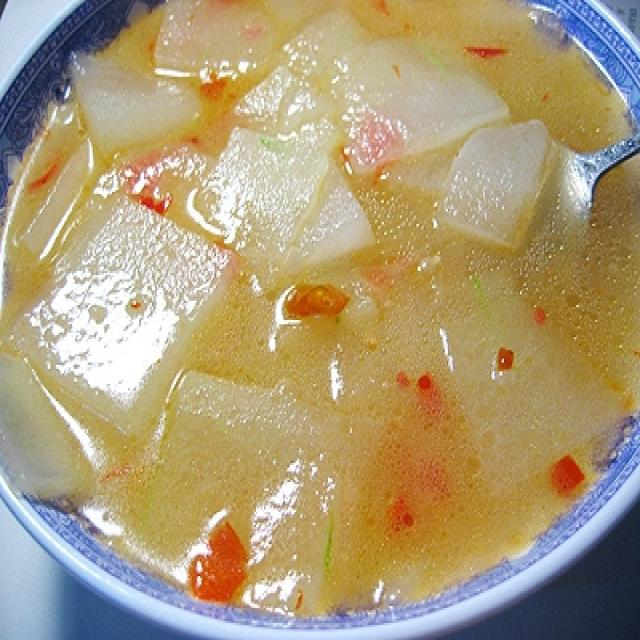汤锅炖物: (11, 28, 624, 610)
